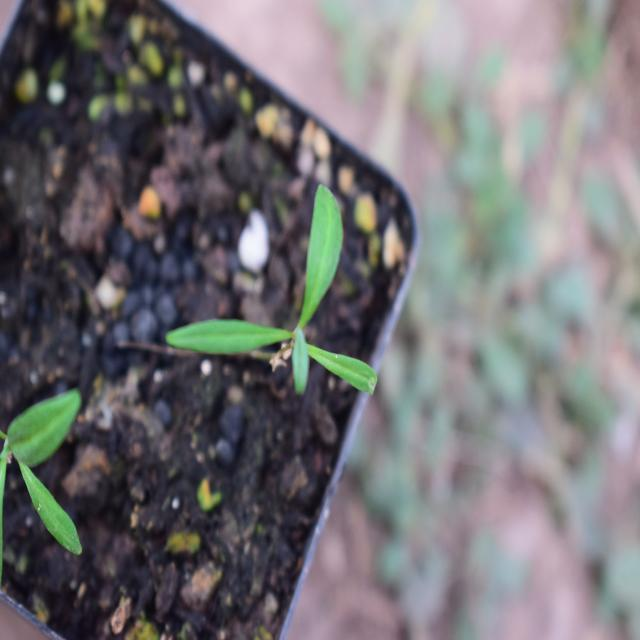white_smart_weed: (163, 158, 393, 418)
